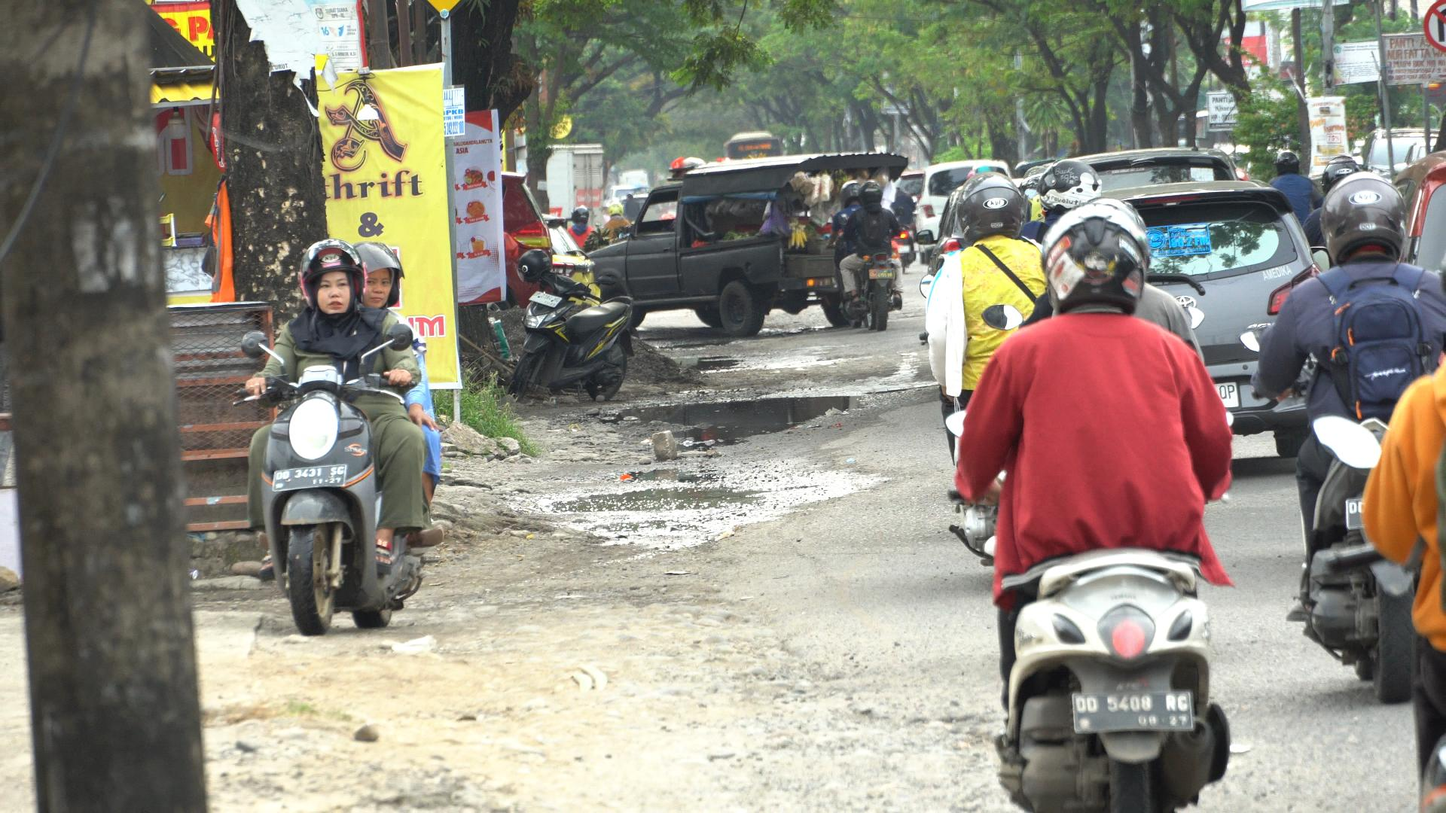number-plate: (272, 464, 345, 490)
